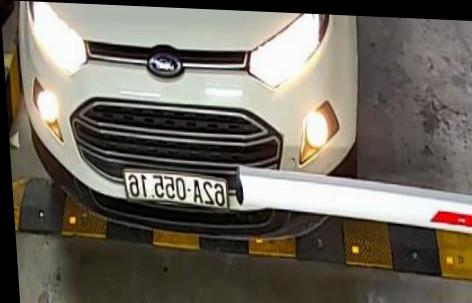License_Plate: (118, 166, 232, 217)
